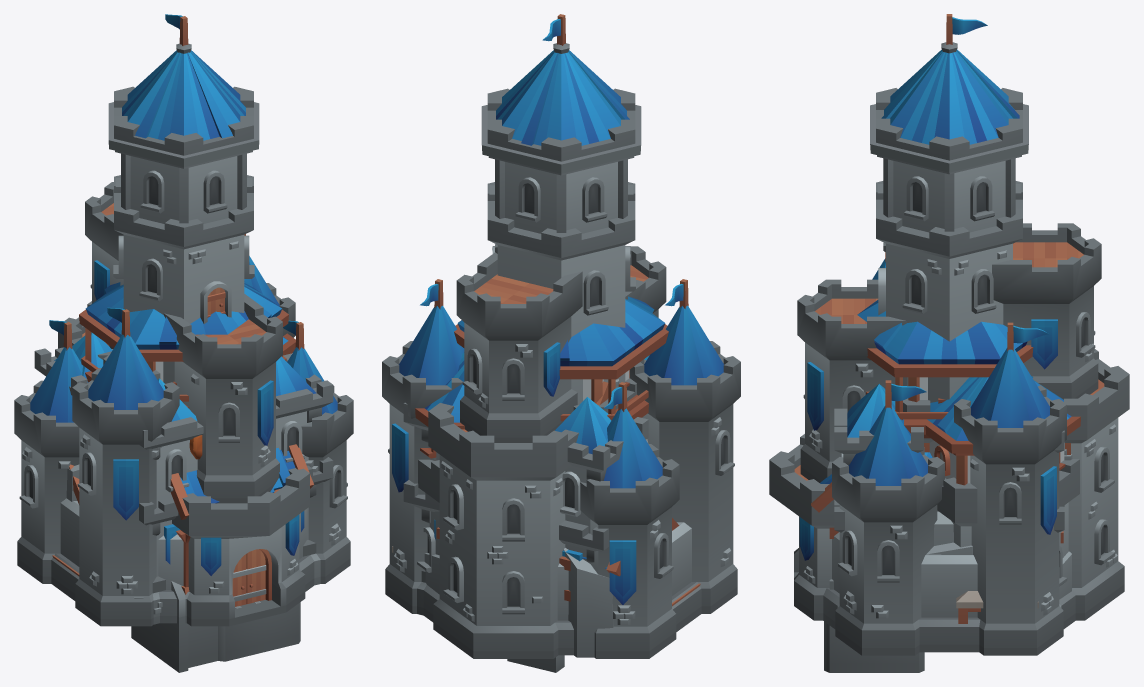
The model's file is buildings.glb.
3 renders of one model, left to right at view 1: azimuth 30°, elevation 25°; view 2: azimuth 150°, elevation 25°; view 3: azimuth 270°, elevation 25°, orthographic. The views are drawn at different scales.
Parts seen in each view (by area): view 1: building_castle_blue, building_barracks_blue, building_watermill_blue, building_tower_B_top_blue; view 2: building_castle_blue, building_barracks_blue, building_tower_B_top_blue, building_mine_blue, building_archeryrange_blue, building_watermill_blue; view 3: building_castle_blue, building_tower_B_top_blue, building_archeryrange_blue, building_barracks_blue, building_watermill_blue, building_mine_blue, building_market_blue.
Part boxes in pixels (box(x1,y1,x2,y2)): building_castle_blue: box(14, 14, 353, 626); building_barracks_blue: box(34, 332, 333, 624); building_watermill_blue: box(131, 444, 313, 672); building_tower_B_top_blue: box(79, 281, 288, 408); building_castle_blue: box(382, 14, 740, 658); building_barracks_blue: box(403, 355, 649, 615); building_tower_B_top_blue: box(454, 296, 668, 421); building_mine_blue: box(424, 548, 613, 657); building_archeryrange_blue: box(415, 352, 679, 576); building_watermill_blue: box(507, 655, 564, 672); building_castle_blue: box(769, 14, 1129, 655); building_tower_B_top_blue: box(857, 300, 1033, 438); building_archeryrange_blue: box(918, 376, 1080, 586); building_barracks_blue: box(834, 384, 1064, 607); building_watermill_blue: box(811, 474, 924, 672); building_mine_blue: box(926, 511, 1071, 599); building_market_blue: box(956, 531, 1063, 623).
Bounding box in the file's own units: 1.98 × 4.33 × 2.26.
1 material, 1 textured.
